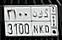0: (24, 11, 31, 35), (18, 12, 25, 35)
1: (12, 9, 18, 35)
3: (7, 8, 13, 36)
D: (44, 10, 50, 33)
K: (38, 10, 44, 35)
N: (32, 9, 39, 34)
